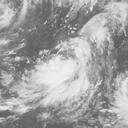cyclone: (29, 43, 90, 107)
